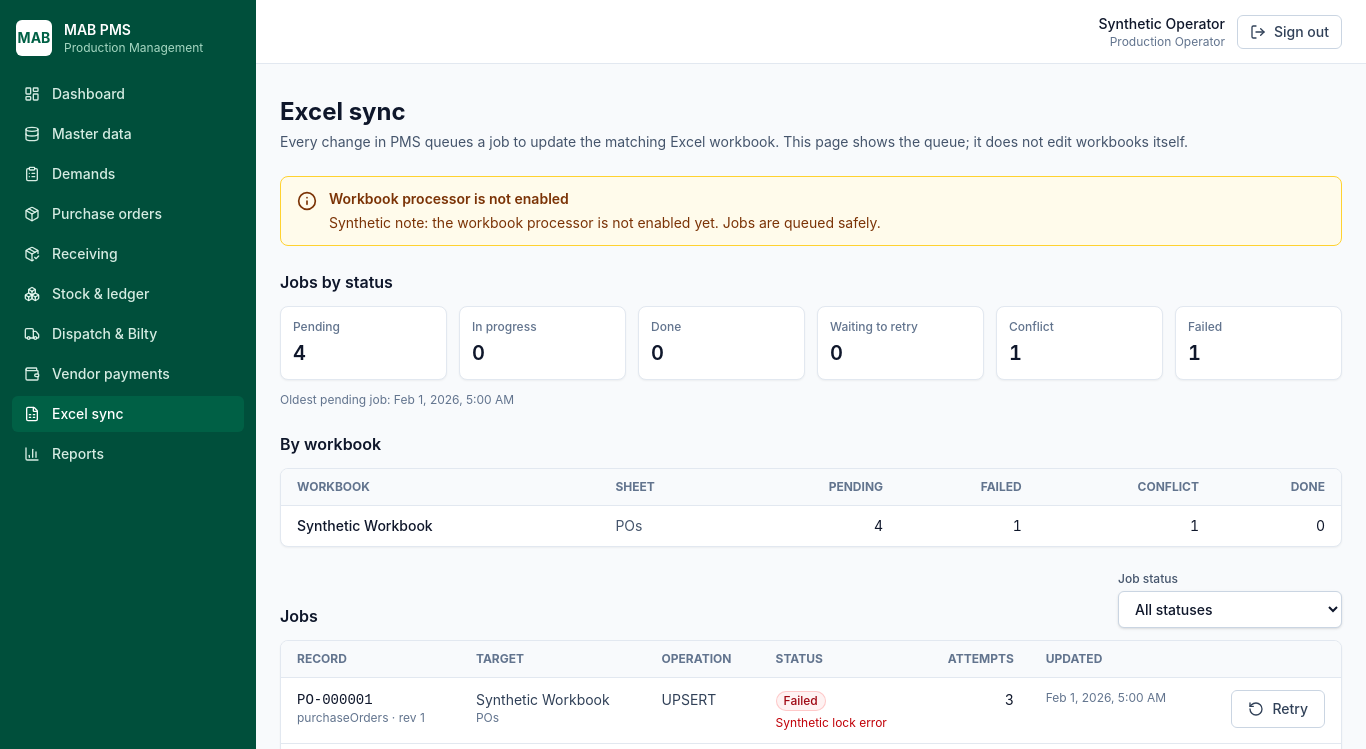
Scenario: Excel sync status › offers retry only for failed and conflicting jobs and re-queues with the CSRF token
Expected: the row that starts with "PO-000001" shows "Synthetic lock error", [776, 715, 887, 730]
Step 1. Click the button with aria-label "Retry PO-000001" → (1278, 709), box [1231, 690, 1325, 728]
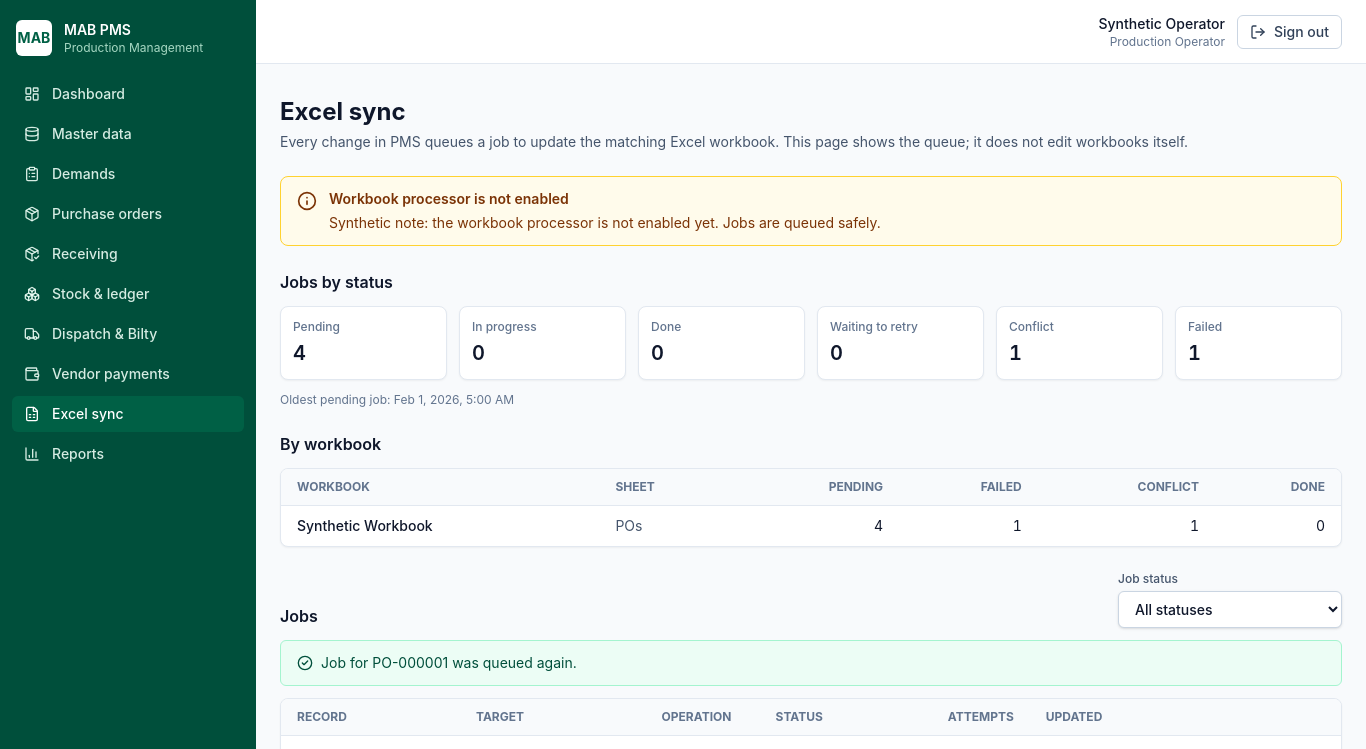
Expected: the text "Job for PO-000001 was queued again." is shown, [321, 653, 577, 673]
